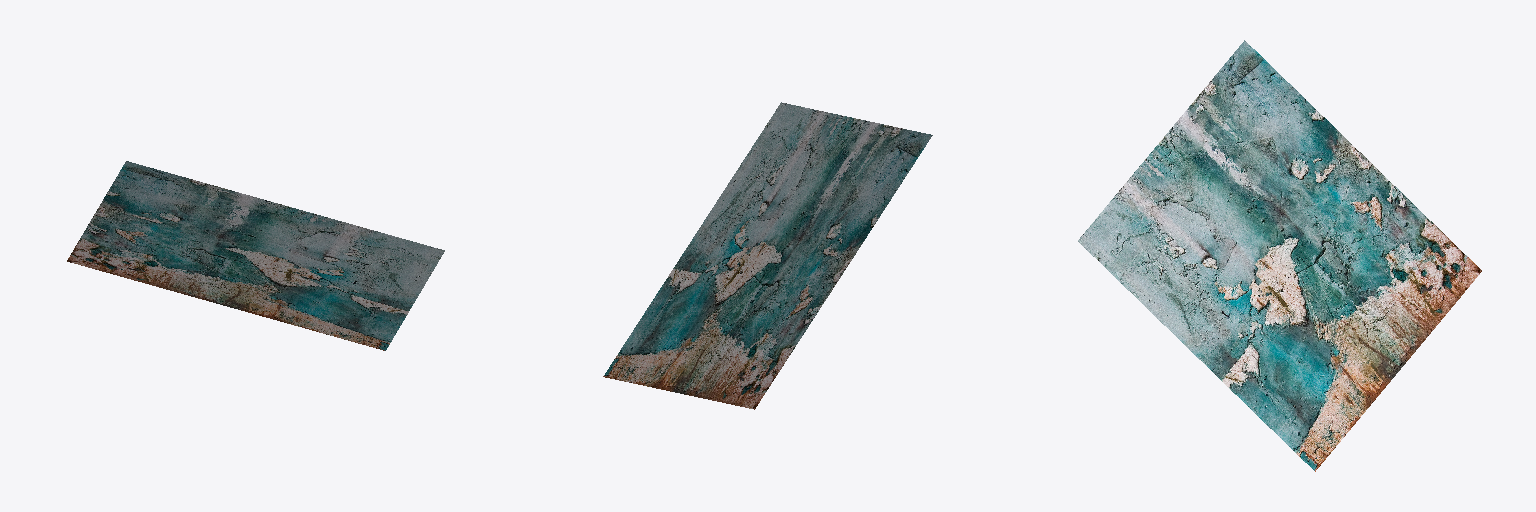
3 renders of one model, left to right at view 1: azimuth 30°, elevation 25°; view 2: azimuth 150°, elevation 25°; view 3: azimuth 270°, elevation 25°, orthographic.
Visible parts, largest first — view 1: Plane; view 2: Plane; view 3: Plane.
Boxes of the visible parts, box(x1,y1,x2,y2) form: Plane: box(67, 161, 444, 350); Plane: box(603, 102, 932, 409); Plane: box(1078, 40, 1481, 471).
Size of the model in its own units: 1.04 by 0.9719 by 1.24.
Materials: 1 (1 with a texture image).